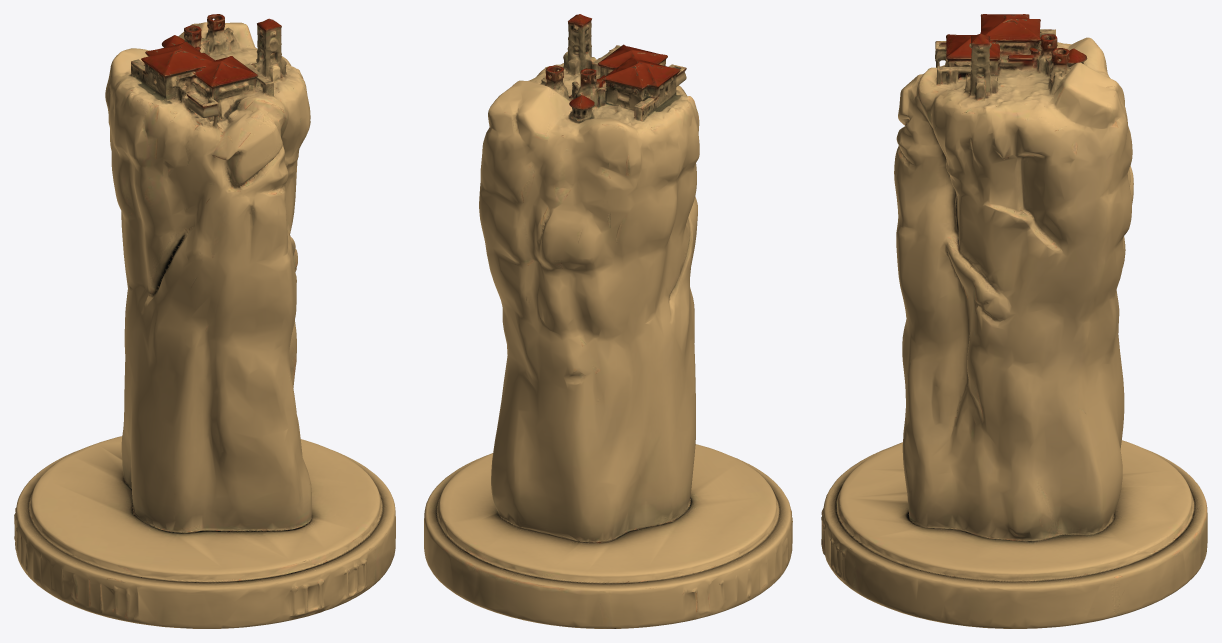
Rendered from meteora.glb.
3 views of the same model, side by side, from view 1: azimuth 30°, elevation 25°; view 2: azimuth 150°, elevation 25°; view 3: azimuth 270°, elevation 25° (orthographic). The views are drawn at different scales.
Parts seen in each view (by area): view 1: Mesh_0; view 2: Mesh_0; view 3: Mesh_0.
Boxes of the visible parts, x1,y1,x2,y2 form: Mesh_0: [14, 14, 395, 628]; Mesh_0: [424, 14, 792, 628]; Mesh_0: [821, 14, 1207, 628].
Bounding box in the file's own units: 1.22 × 1.89 × 1.22.
1 material, 1 textured.
